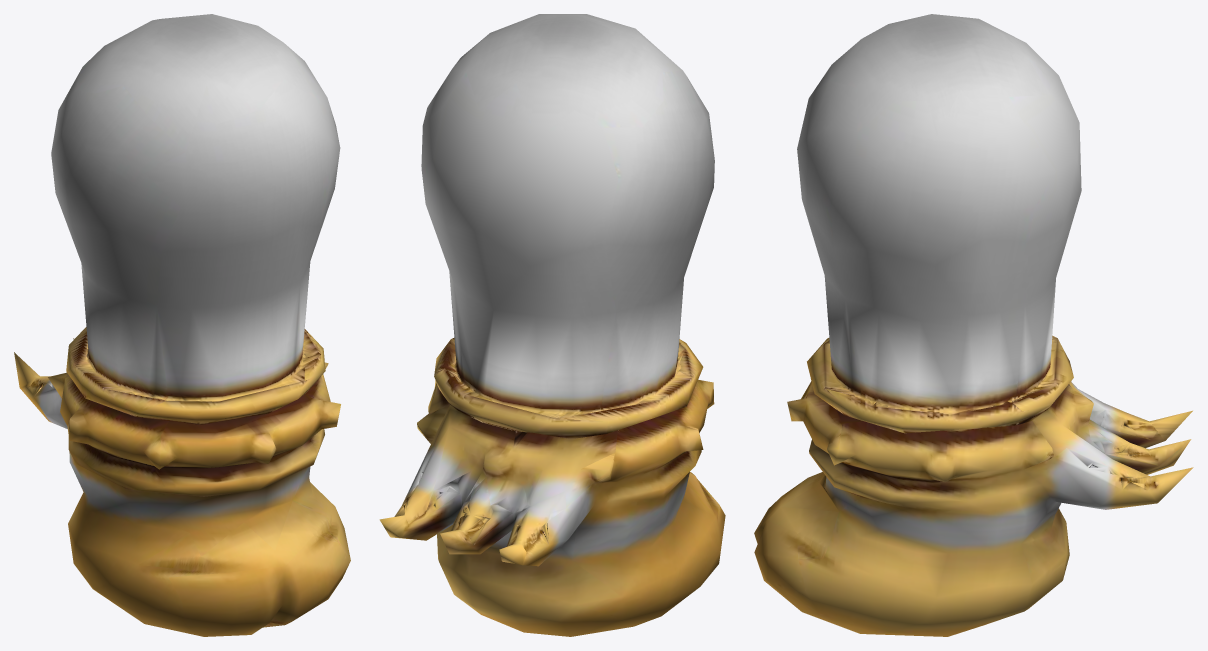
The model's file is trau_legl.glb.
3 views of the same model, side by side, from view 1: azimuth 30°, elevation 25°; view 2: azimuth 150°, elevation 25°; view 3: azimuth 270°, elevation 25° (orthographic). The views are drawn at different scales.
Parts seen in each view (by area): view 1: trau_legl; view 2: trau_legl; view 3: trau_legl.
Part boxes in pixels (left/top/right/bottom): trau_legl: left=14, top=14, right=350, bottom=636; trau_legl: left=379, top=14, right=725, bottom=636; trau_legl: left=754, top=14, right=1193, bottom=636.
Bounding box in the file's own units: 0.2212 × 0.4682 × 0.3183.
1 material, 1 textured.
